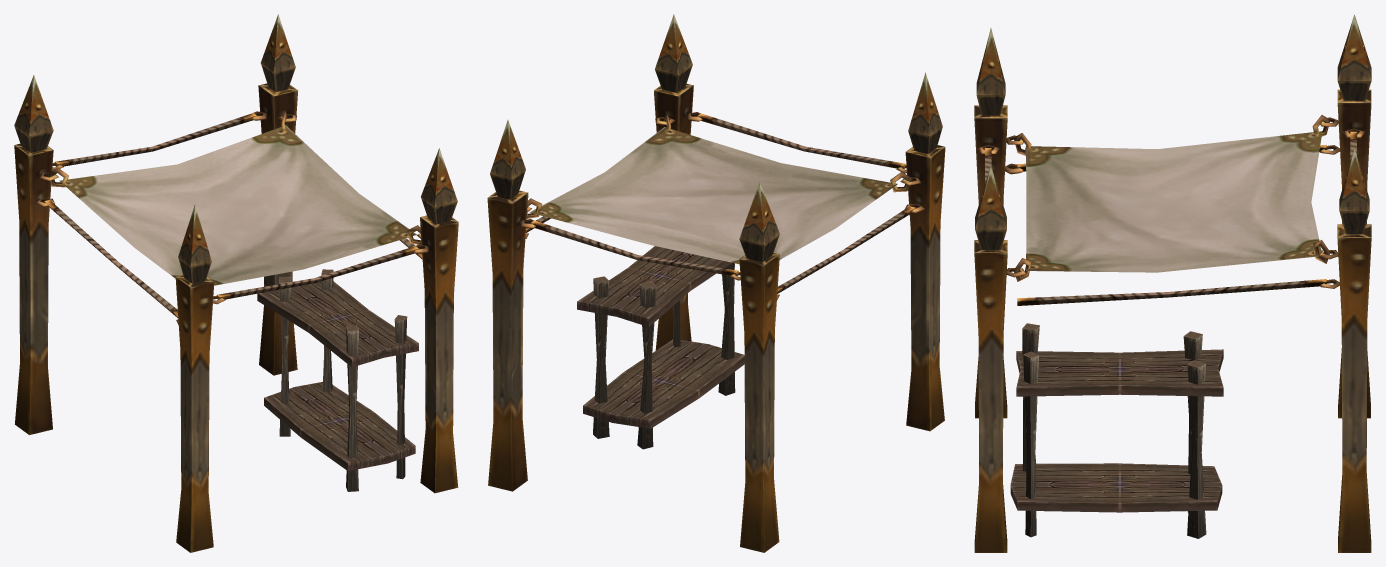
File: Battle04_Market_02.FBX
3 views of the same model, side by side, from view 1: azimuth 30°, elevation 25°; view 2: azimuth 150°, elevation 25°; view 3: azimuth 270°, elevation 25° (orthographic). The views are drawn at different scales.
Parts seen in each view (by area): view 1: Battle04_Market_02; view 2: Battle04_Market_02; view 3: Battle04_Market_02.
Part boxes in pixels (<box>): Battle04_Market_02: <box>14,14,458,552</box>; Battle04_Market_02: <box>487,14,945,552</box>; Battle04_Market_02: <box>974,14,1371,552</box>.
Bounding box in the file's own units: 4.83 × 6.06 × 5.47.
